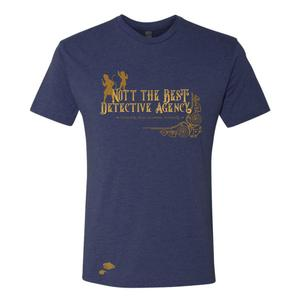T-Shirt: (28, 13, 276, 290)
